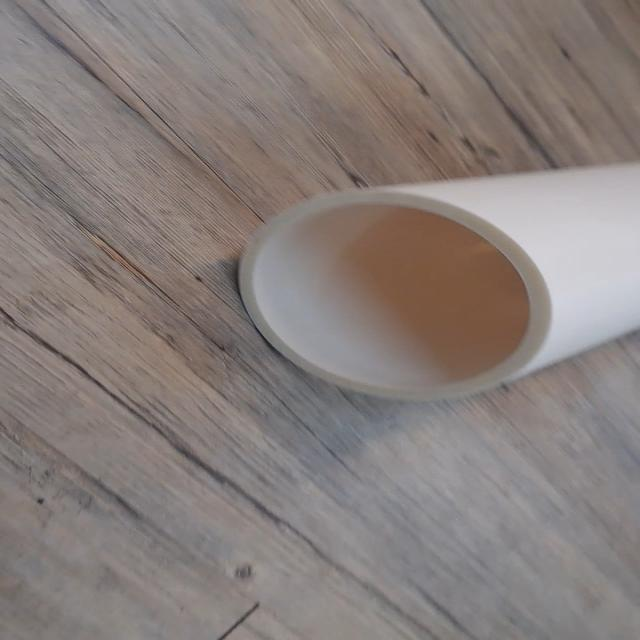CORAL: (231, 153, 640, 410)
